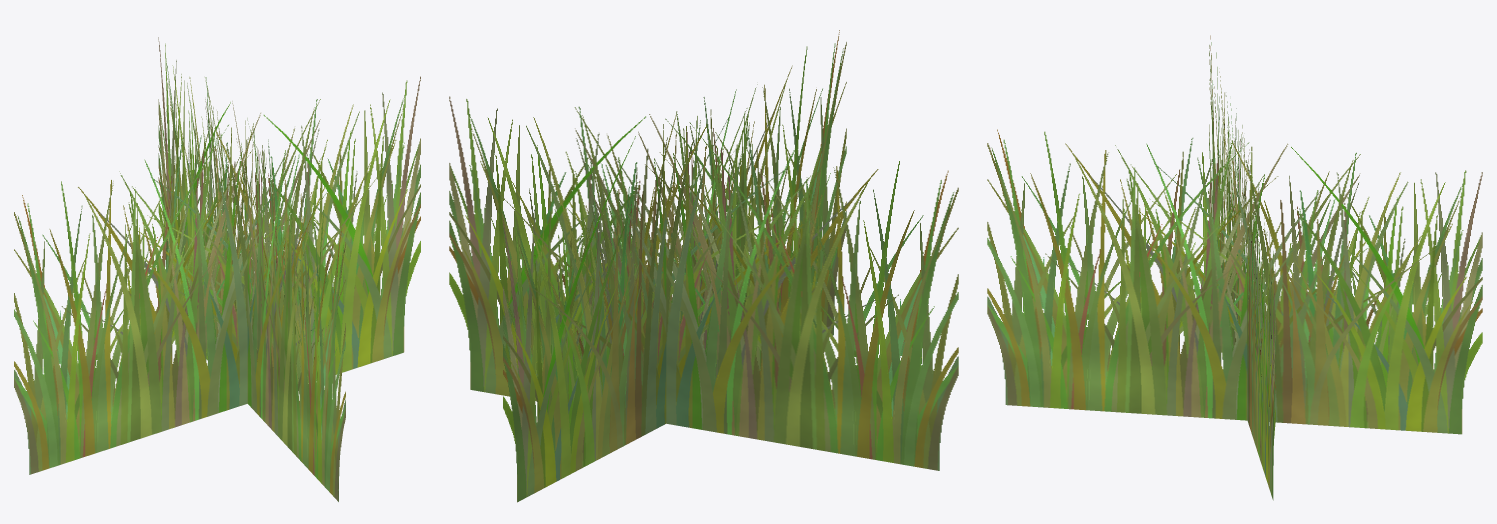
Rendered from Grass_Common_Short_LOD2.gltf.
3 renders of one model, left to right at view 1: azimuth 30°, elevation 25°; view 2: azimuth 150°, elevation 25°; view 3: azimuth 270°, elevation 25°, orthographic. The views are drawn at different scales.
Parts seen in each view (by area): view 1: Grass_Common_Short_LOD2; view 2: Grass_Common_Short_LOD2; view 3: Grass_Common_Short_LOD2.
Part boxes in pixels (x1,y1,x2,y2): Grass_Common_Short_LOD2: [14, 37, 420, 501]; Grass_Common_Short_LOD2: [449, 30, 958, 502]; Grass_Common_Short_LOD2: [987, 35, 1482, 500].
Size of the model in its own units: 0.6937 by 0.4411 by 0.692.
Materials: 1 (1 with a texture image).
